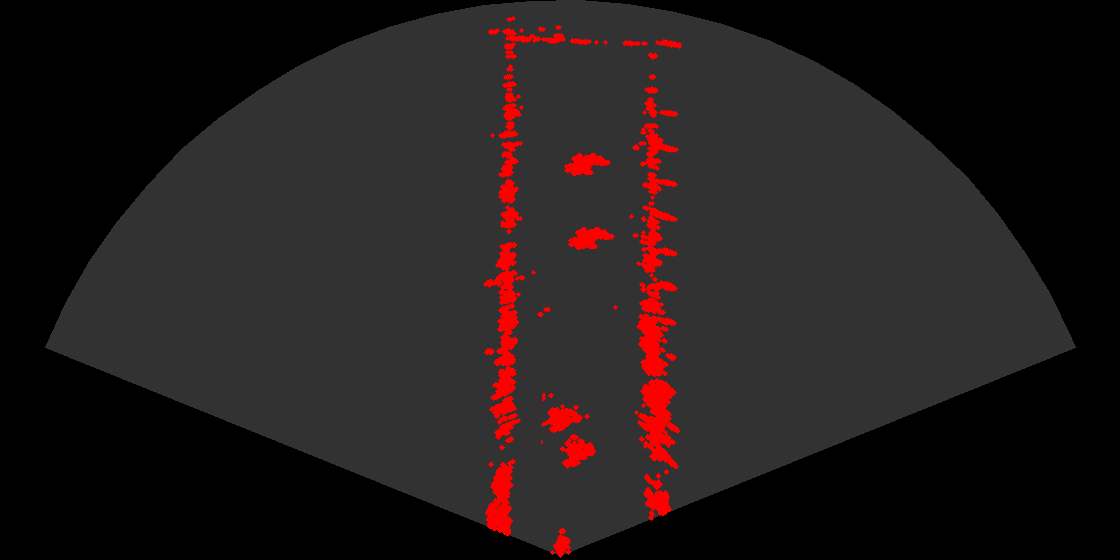AUV: (558, 151, 614, 183), (562, 225, 618, 257)
cage: (541, 393, 604, 477)
